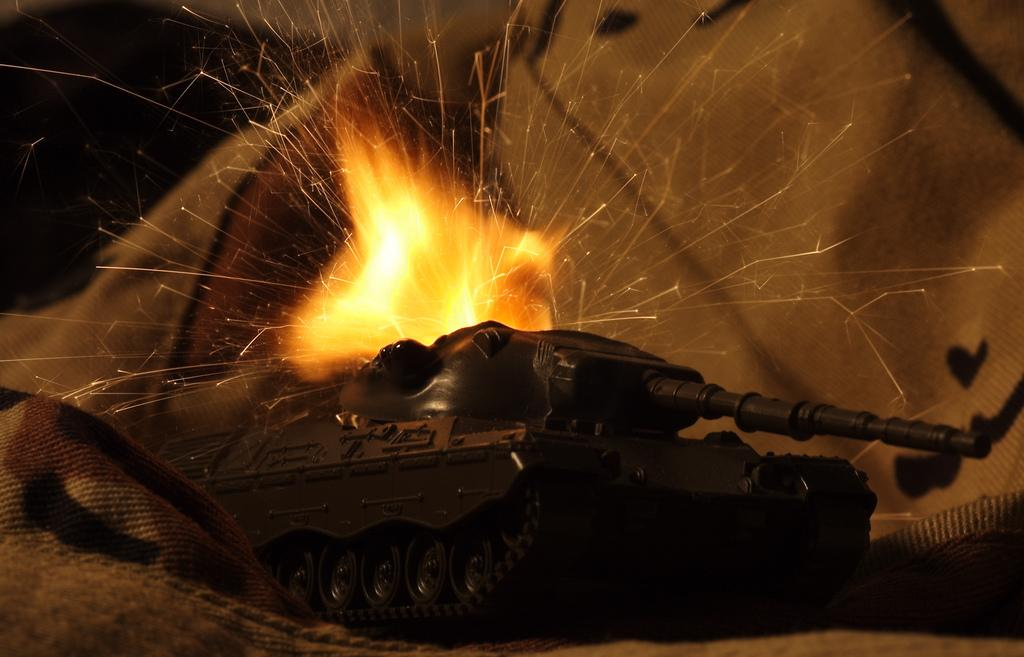fire: (318, 138, 515, 347)
